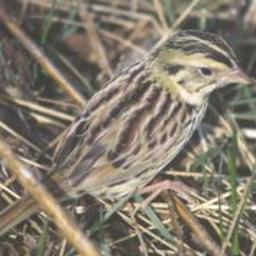Sparrow: (0, 24, 256, 256)
